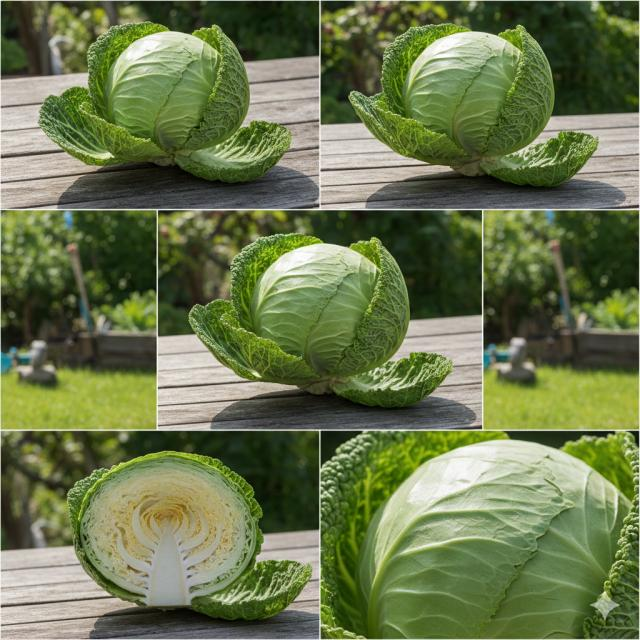cabbage: (348, 437, 640, 640), (64, 446, 288, 618), (232, 237, 427, 403), (71, 19, 275, 175), (380, 20, 564, 170)
